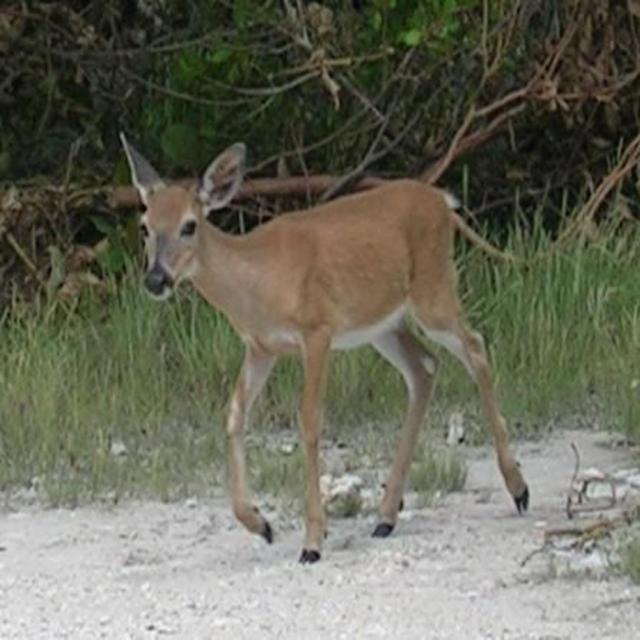Deer: (123, 133, 531, 555)
